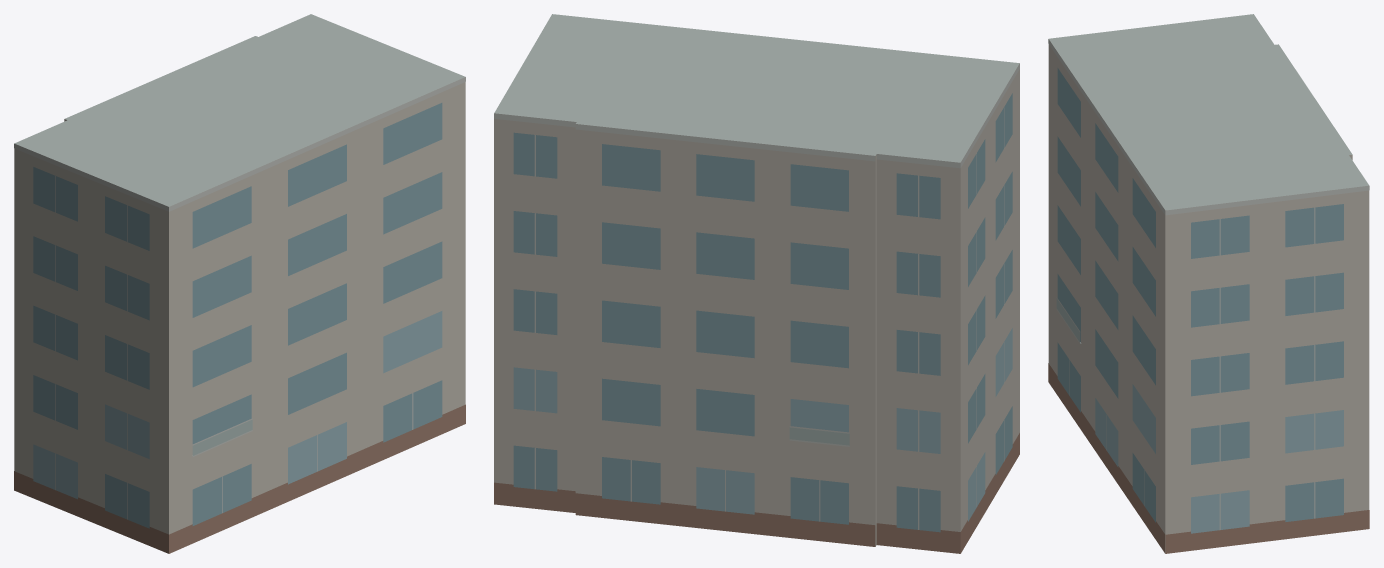
Rendered from survey-upis-32709726.glb.
3 renders of one model, left to right at view 1: azimuth 30°, elevation 25°; view 2: azimuth 150°, elevation 25°; view 3: azimuth 270°, elevation 25°, orthographic. The views are drawn at different scales.
Visible parts, largest first — view 1: survey-upis-32709726.tmp; view 2: survey-upis-32709726.tmp; view 3: survey-upis-32709726.tmp.
Boxes of the visible parts, <box> form: survey-upis-32709726.tmp: <box>14,14,465,553</box>; survey-upis-32709726.tmp: <box>494,14,1019,553</box>; survey-upis-32709726.tmp: <box>1048,14,1369,553</box>.
Size of the model in its own units: 21.12 by 17.2 by 14.58.
